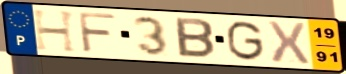3: (132, 15, 171, 57)
B: (174, 16, 218, 60)
F: (76, 10, 119, 55)
G: (226, 20, 267, 63)
H: (30, 8, 79, 54)
X: (265, 19, 312, 65)
